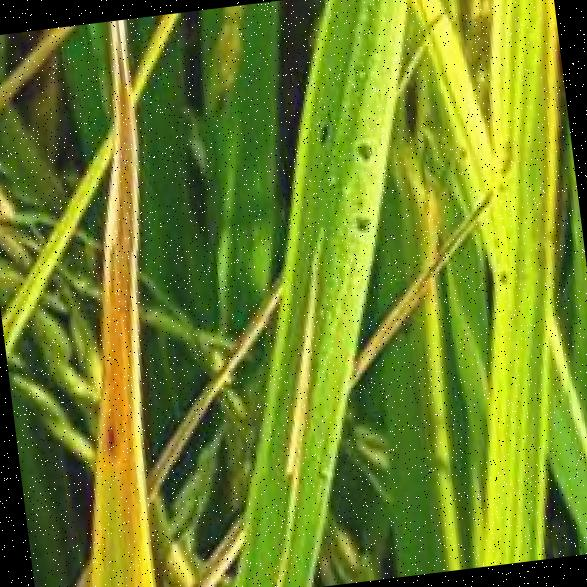Bacteria_Leaf_Blight: (43, 25, 189, 486)
